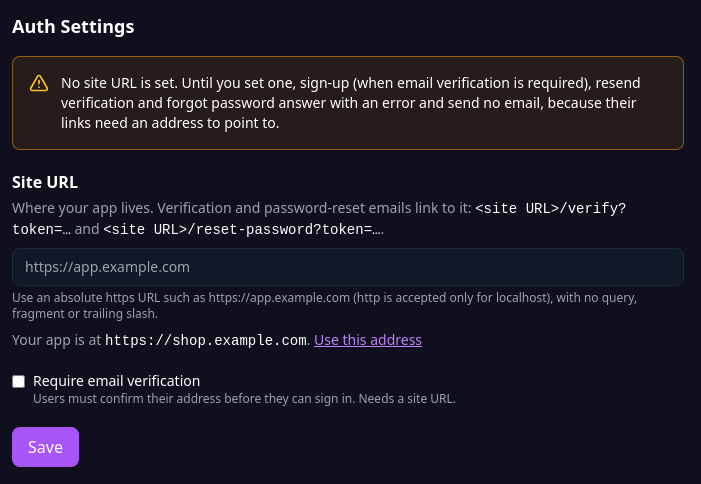
Test: AuthSettingsPage › suggests the project app address and fills it in on request
The width and height of the screenshot is (701, 484).
Click the button "Use this address".
click(368, 340)  # box [314, 330, 422, 350]
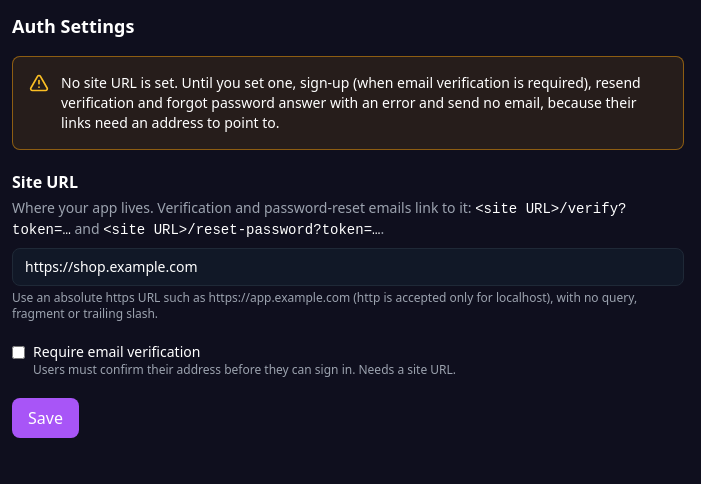
Result: the field labelled "Site URL" holds "https://shop.example.com" at [12, 248, 684, 286]
Result: the button "Use this address" is gone
